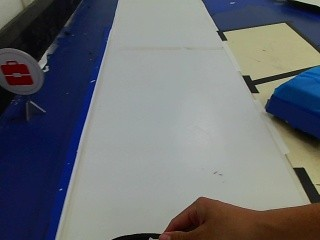car: (266, 69, 318, 149)
company: (0, 47, 43, 99)
